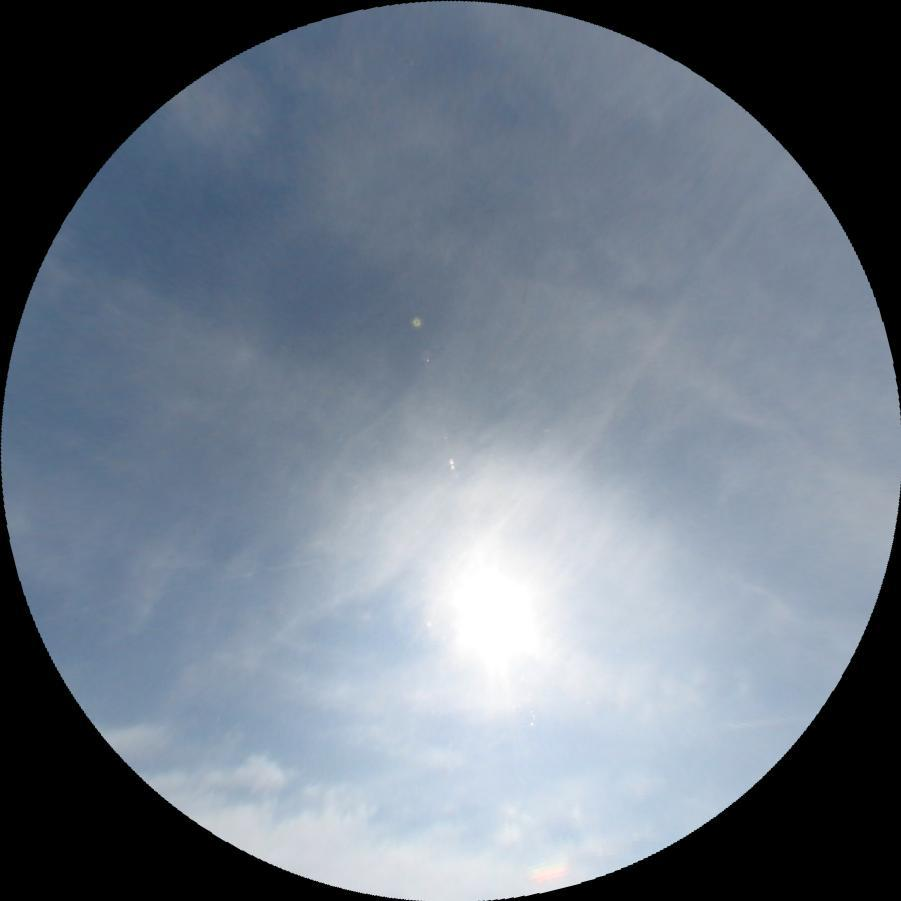contrail veryold: (478, 150, 819, 542)
sun: (437, 551, 545, 683)
